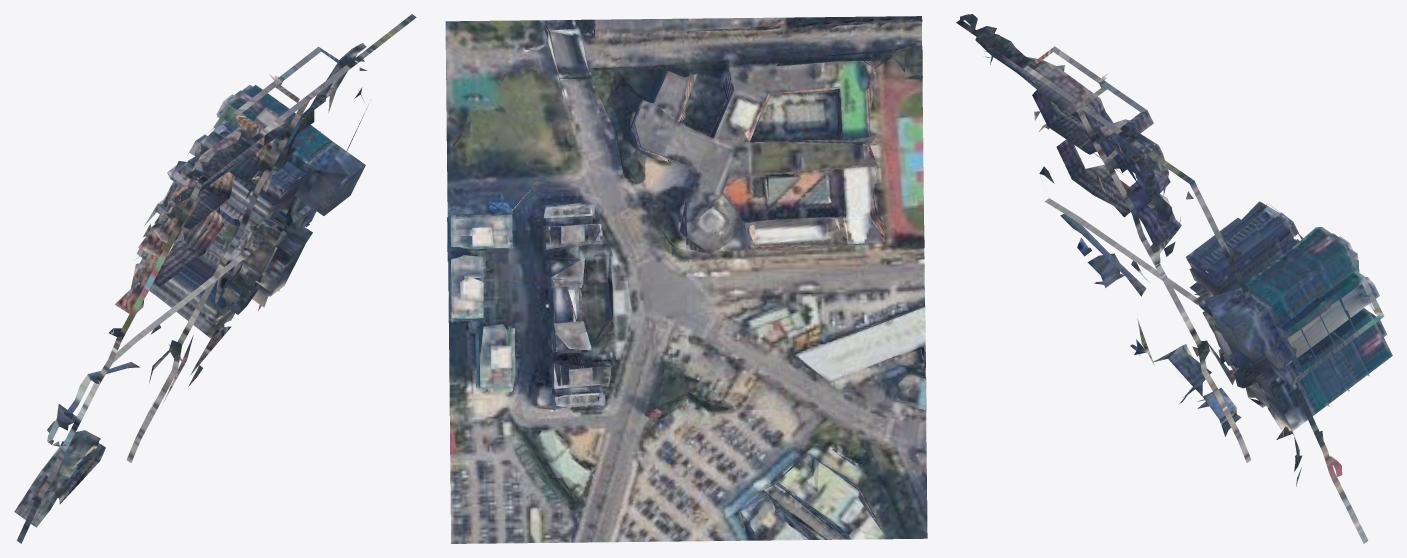
3 renders of one model, left to right at view 1: azimuth 30°, elevation 25°; view 2: azimuth 150°, elevation 25°; view 3: azimuth 270°, elevation 25°, orthographic. The views are drawn at different scales.
Size of the model in its own units: 306 by 290 by 271.
2 materials, 2 textured.
